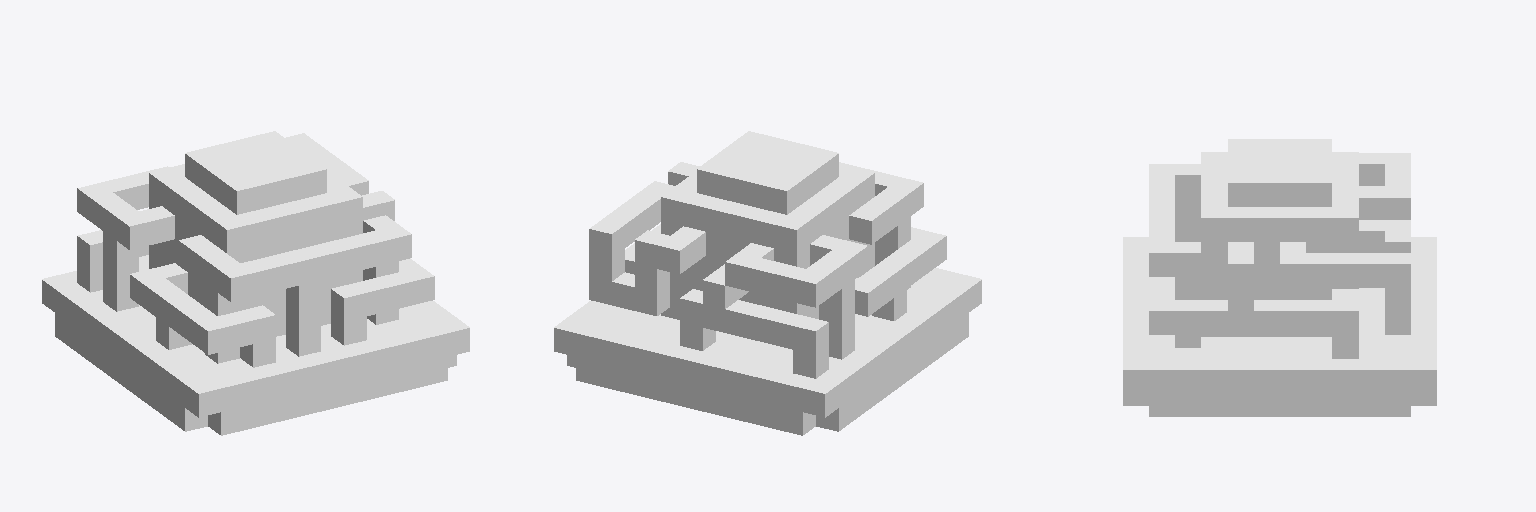
File: CoreConverter.obj
3 renders of one model, left to right at view 1: azimuth 30°, elevation 25°; view 2: azimuth 150°, elevation 25°; view 3: azimuth 270°, elevation 25°, orthographic.
Parts seen in each view (by area): view 1: object 1; view 2: object 1; view 3: object 1.
Part boxes in pixels (bbox=[...]): object 1: bbox=[42, 131, 469, 435]; object 1: bbox=[554, 131, 981, 435]; object 1: bbox=[1123, 139, 1436, 416].
Size of the model in its own units: 1.2 by 0.8 by 1.2.